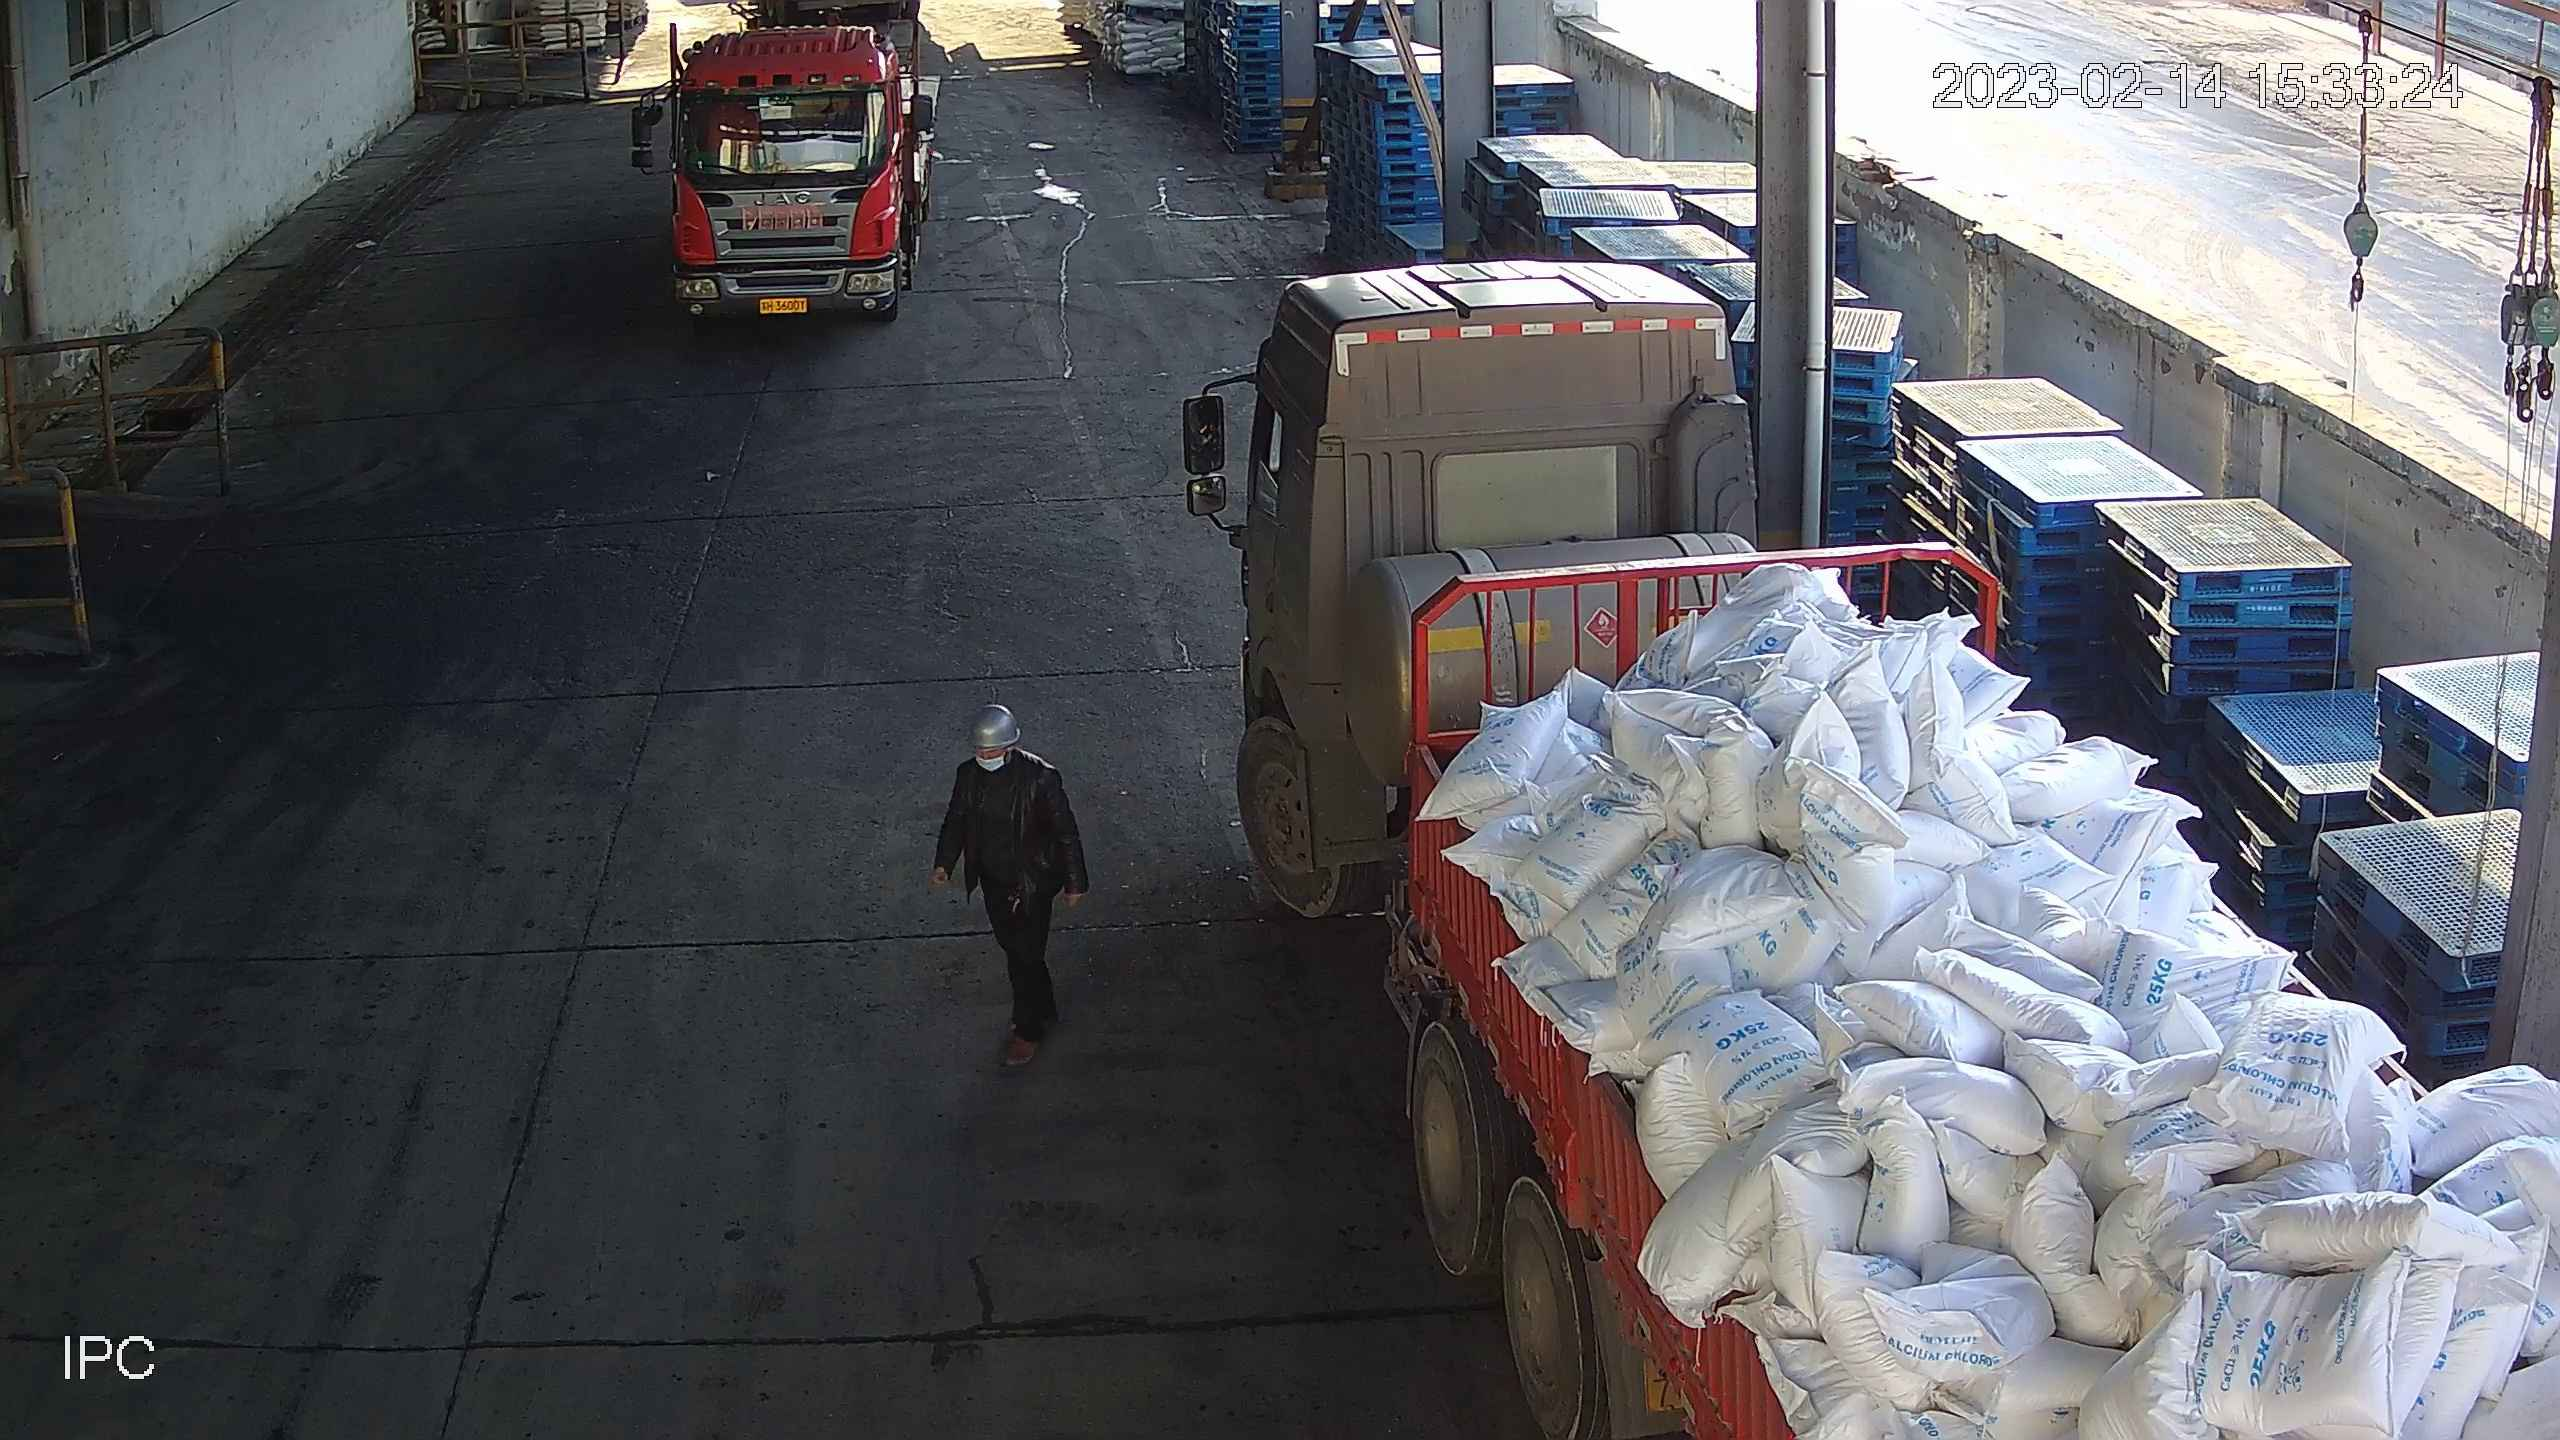helmet: (964, 708, 1025, 753)
people: (929, 694, 1085, 1086)
truck: (1183, 260, 2560, 1440), (618, 3, 951, 342)
